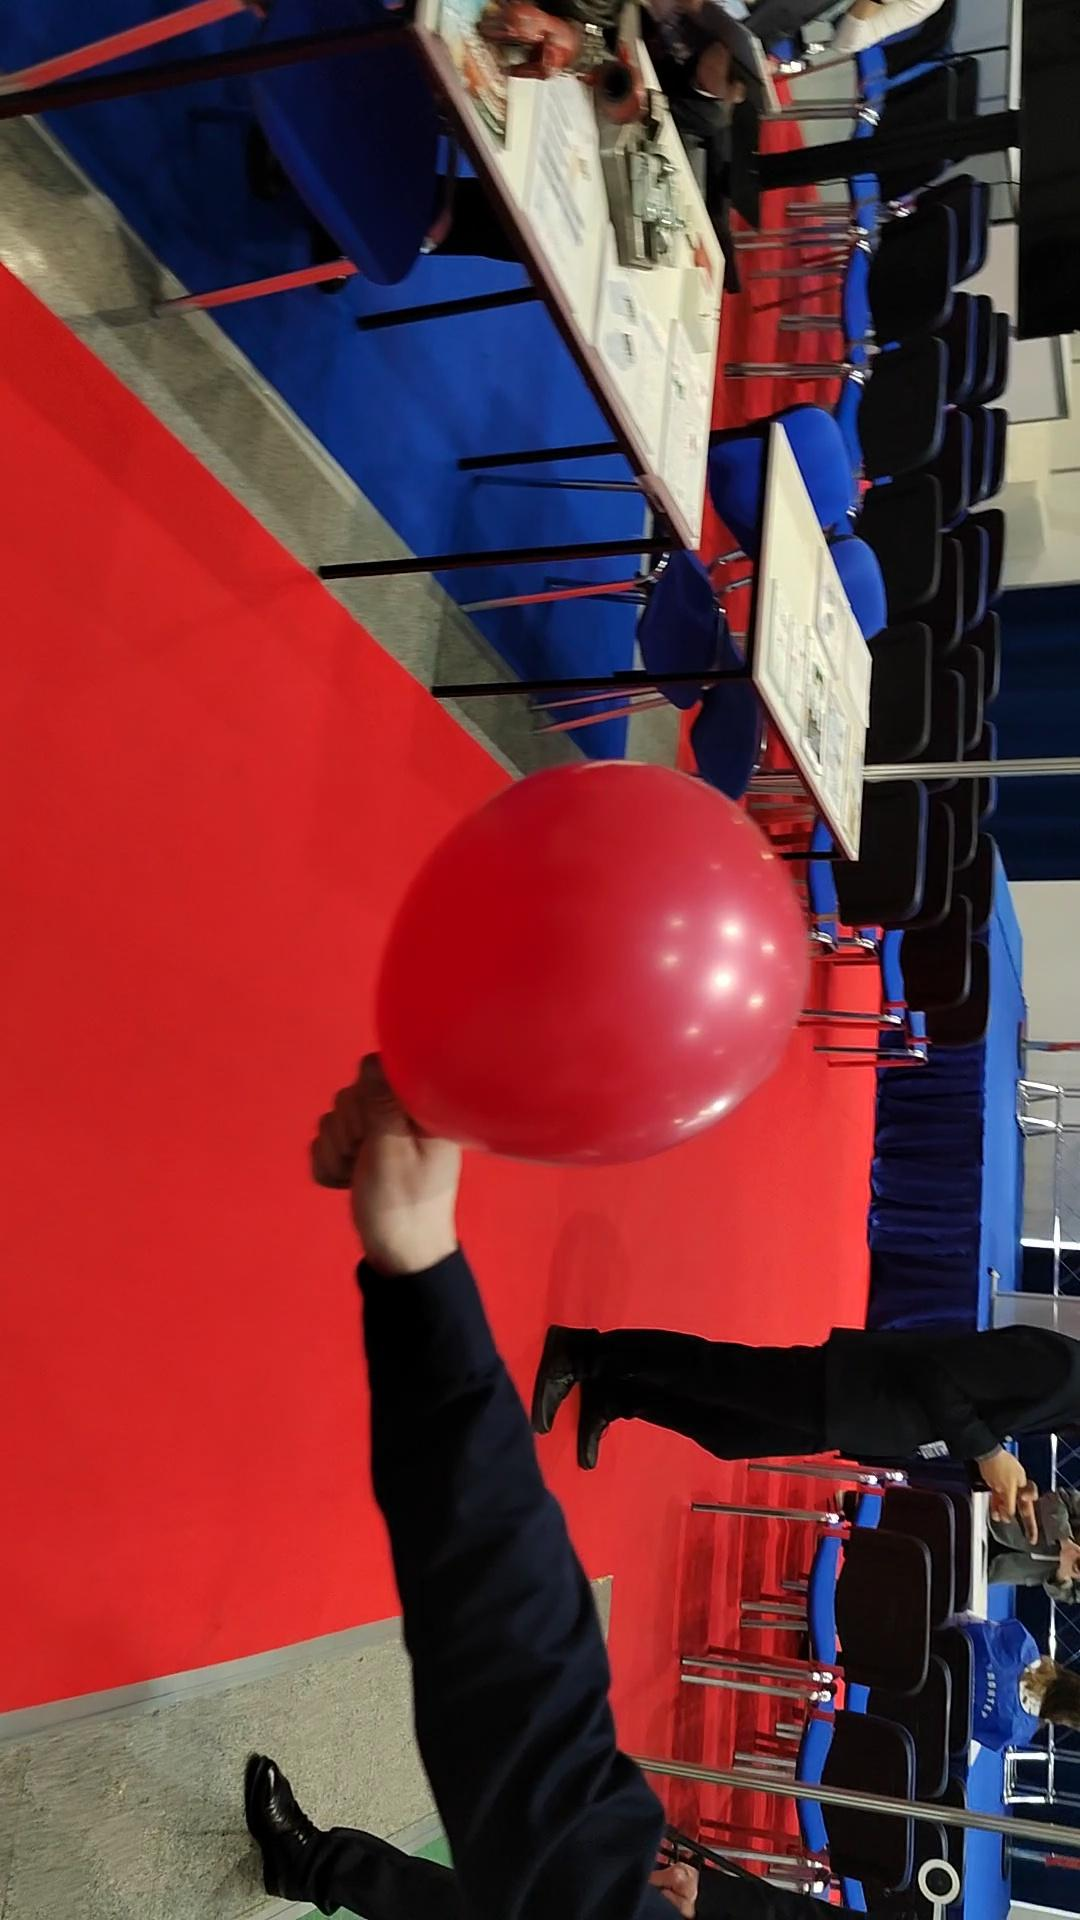red: (360, 748, 822, 1184)
